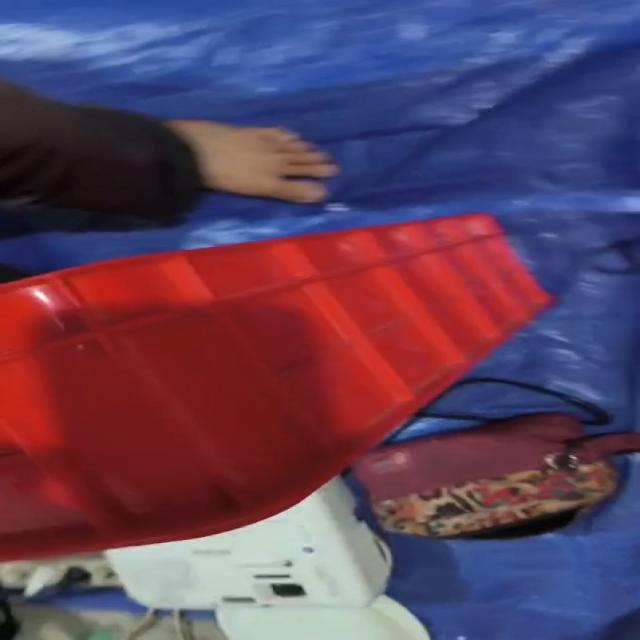red plastic box: (0, 212, 554, 563)
